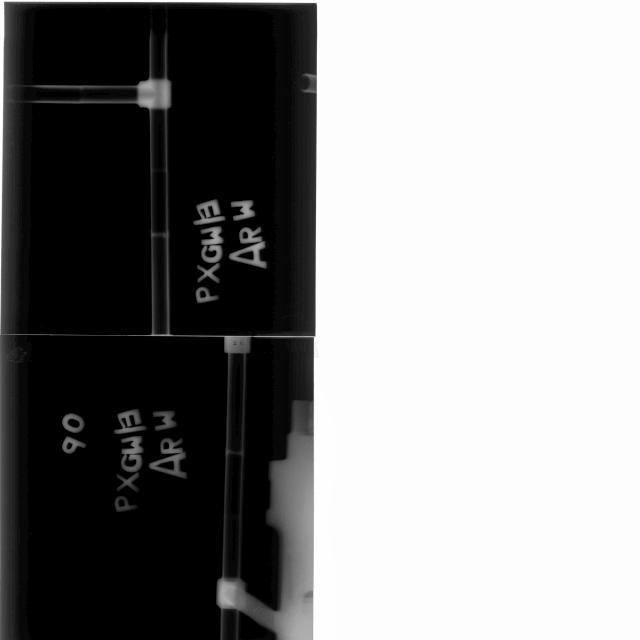LOP: (162, 237, 164, 308)
